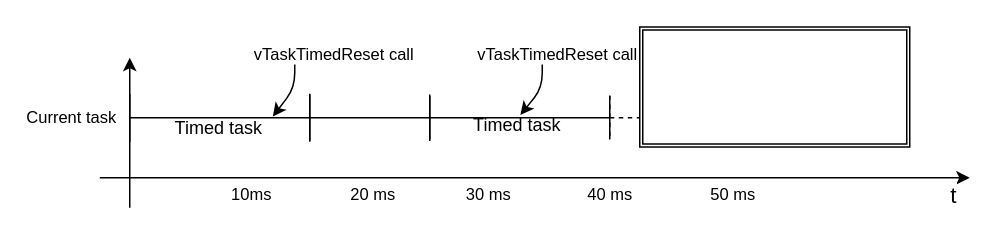
The diagram is 1008 pixels wide and 246 high, and some of its shapes have lost their labels. Each missing label, with the centre of its shape:
Idle task: the point at 369,117
Overrun timeout = 30 ms Overflow timeout = 20 ms: the point at 774,86
